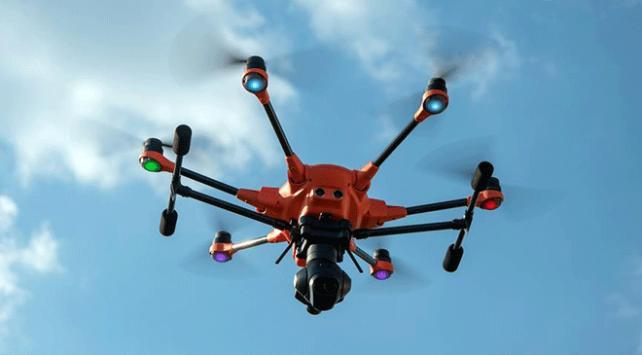drone: (117, 57, 512, 294)
